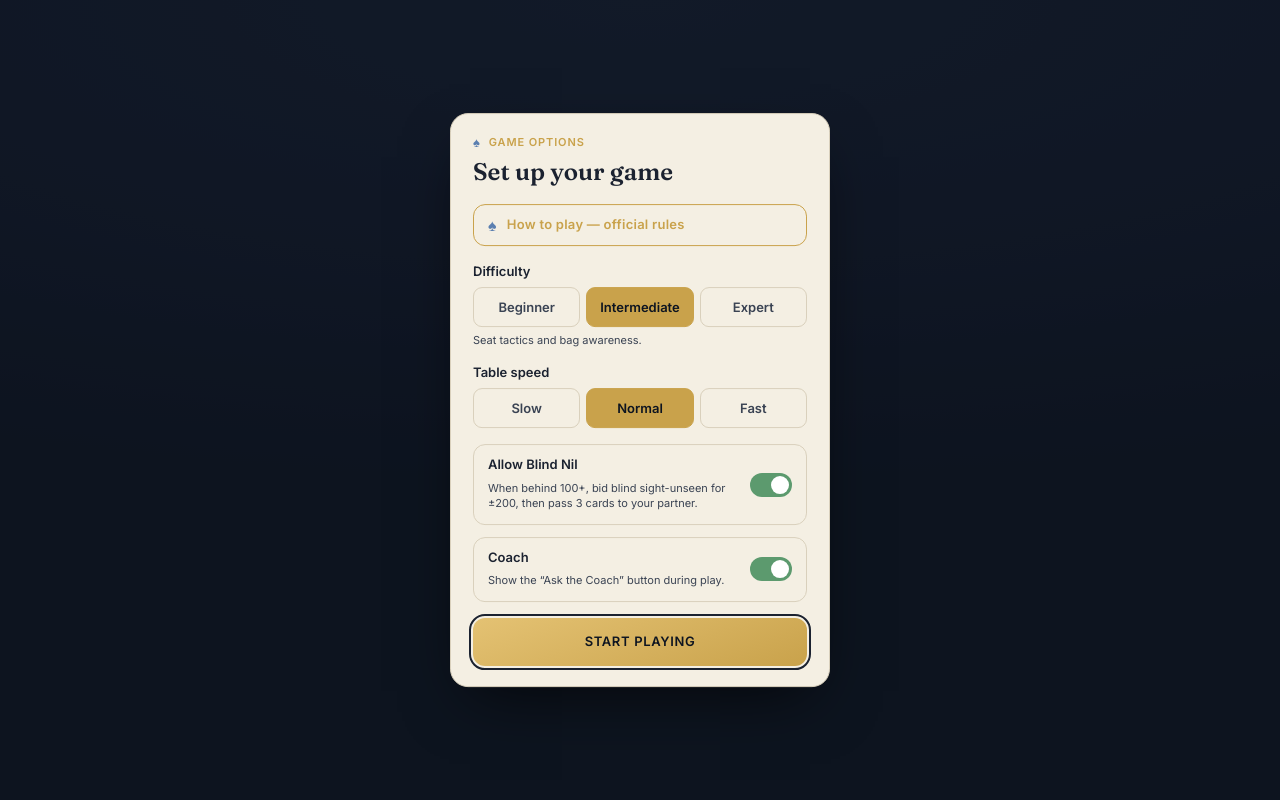
Scenario: Options screen — official rules overlay › opens a scrollable rules dialog and closes it
Click the button "♠ How to play — official rules".
click(640, 225)  # box [473,204,807,246]
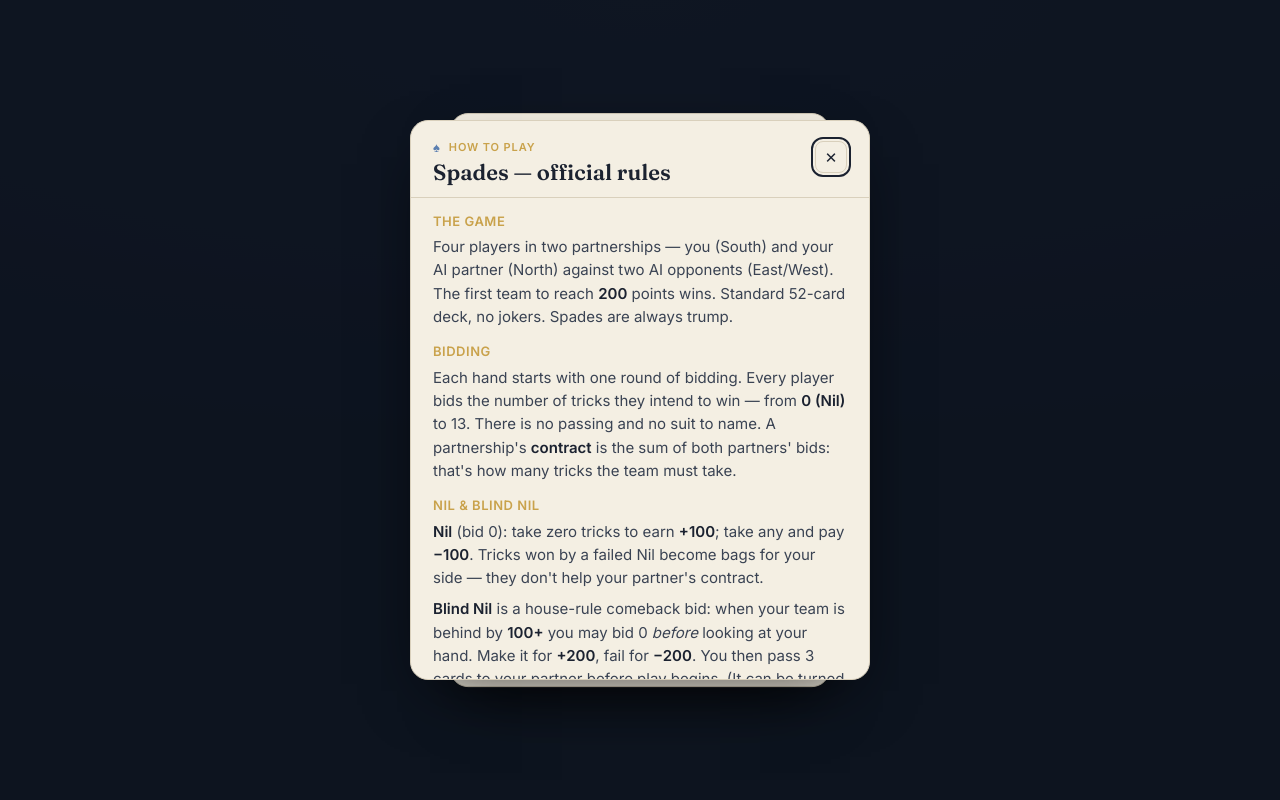
Expected: the dialog with test id "rules" is shown, [410,120,870,680]
Expected: the element with class "rules-body" is shown, [411,198,869,679]
Expected: the text "Spades are always trump" is shown, [433,284,845,326]
Click the button named "Close rules".
click(831, 157)  # box [815,141,847,173]
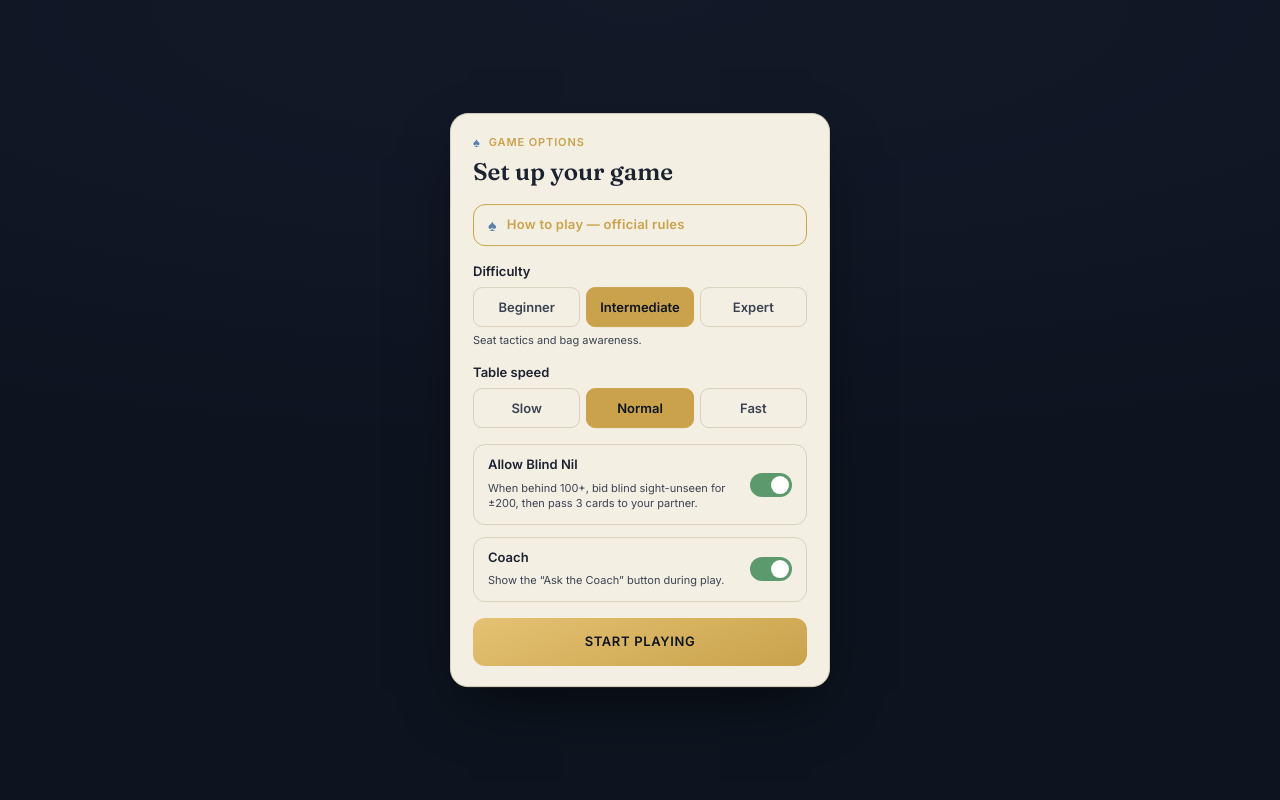
Expected: the button with test id "rules" is gone
